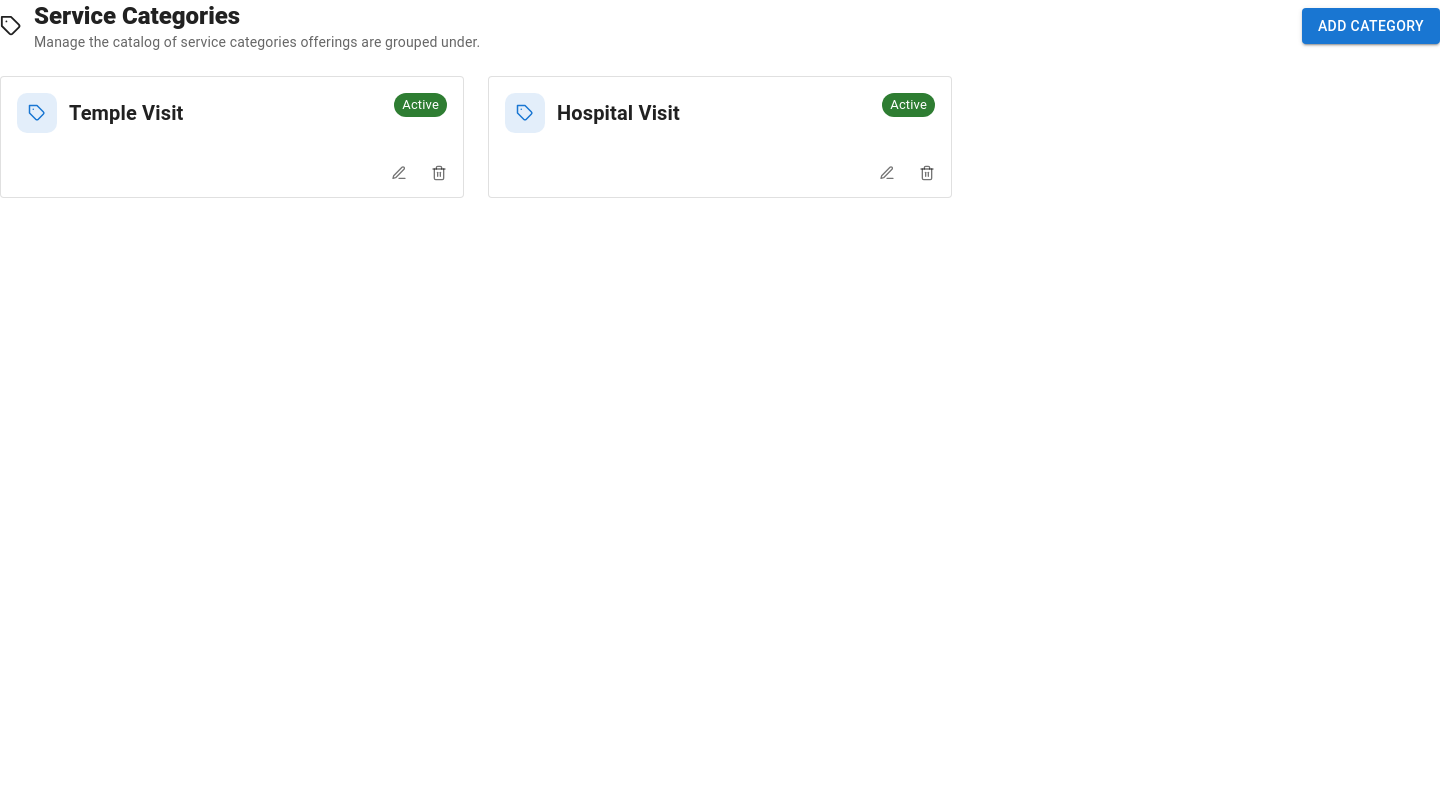
Test case: ServiceCategoryListingTemplate › shows an error message if deletion fails
Click the button named "Delete" below "Temple Visit".
click(439, 173)  # box [423, 157, 455, 189]
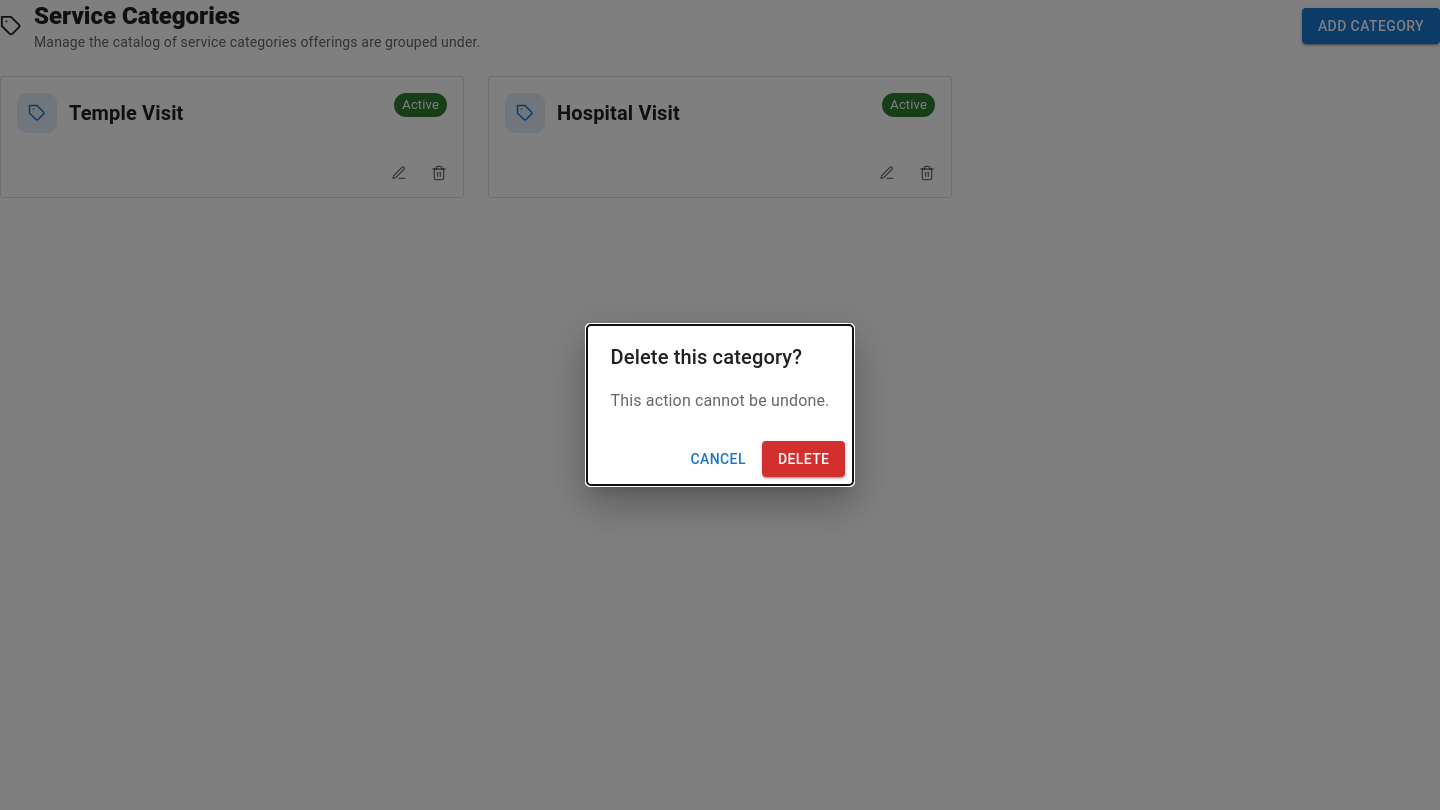
Click the button "Delete".
click(804, 459)  # box [762, 441, 845, 477]
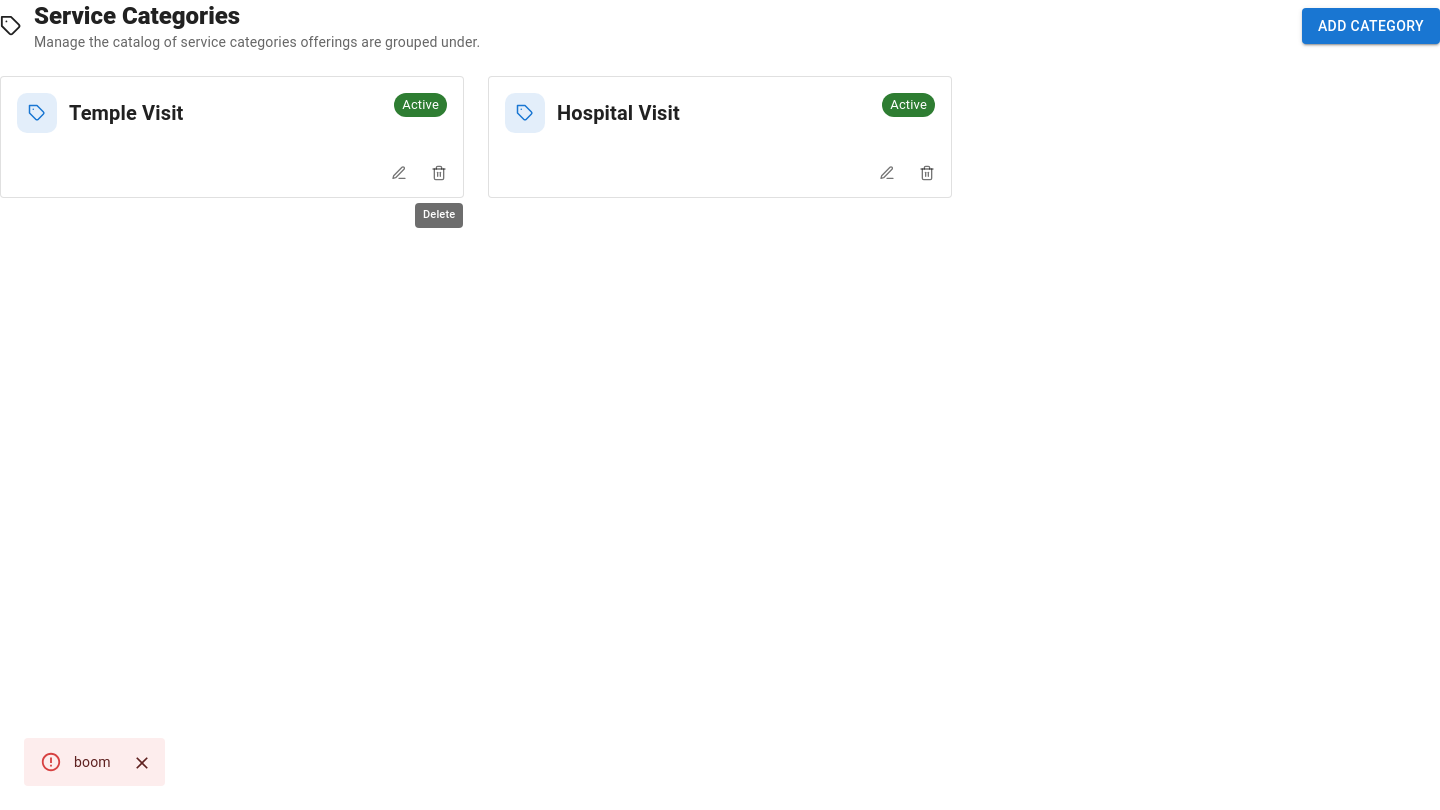
Check: the text "boom" is shown, box [74, 754, 111, 770]
